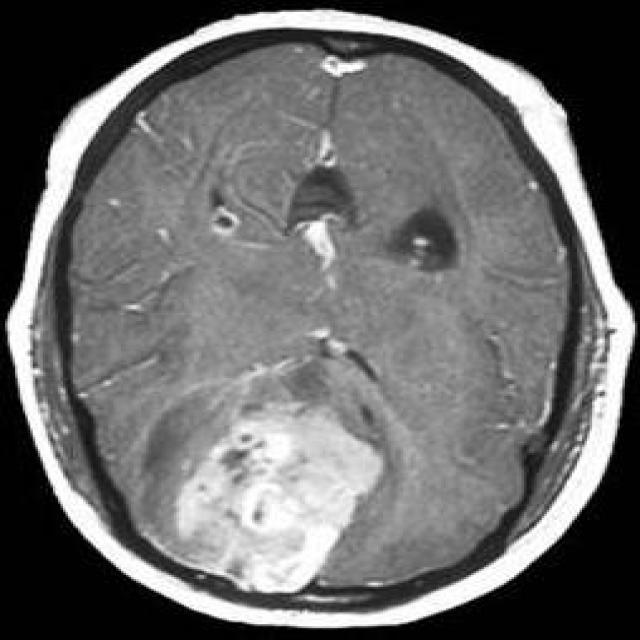brain tumor: (179, 402, 386, 593)
